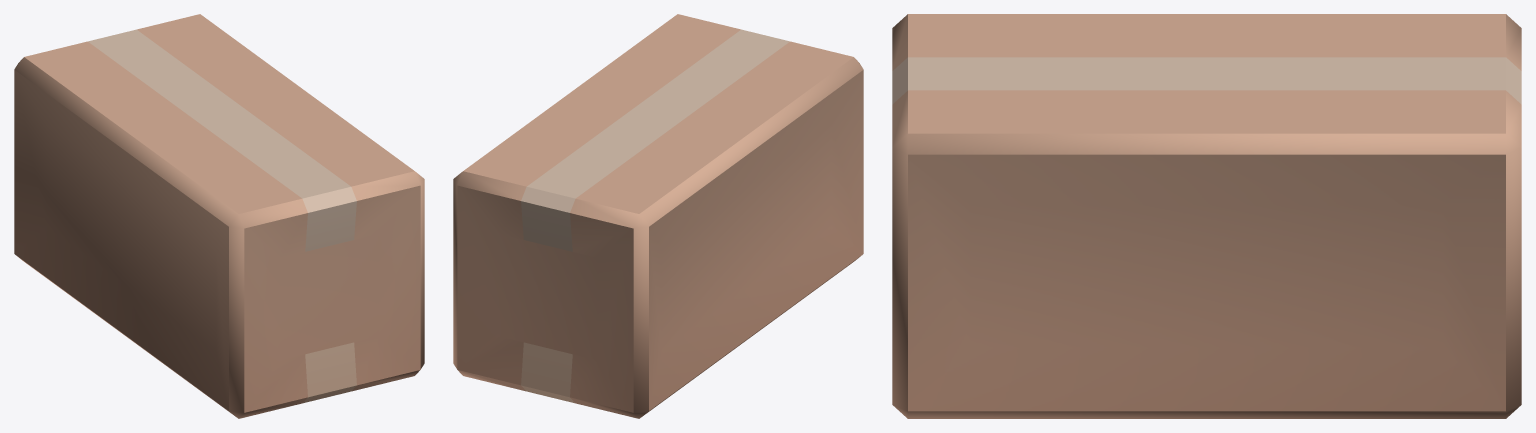
The model's file is box-large.glb.
3 views of the same model, side by side, from view 1: azimuth 30°, elevation 25°; view 2: azimuth 150°, elevation 25°; view 3: azimuth 270°, elevation 25° (orthographic). The views are drawn at different scales.
Visible parts, largest first — view 1: box-large; view 2: box-large; view 3: box-large.
Boxes of the visible parts, left/top/right/bottom form: box-large: left=14, top=14, right=424, bottom=418; box-large: left=453, top=14, right=863, bottom=418; box-large: left=892, top=14, right=1521, bottom=418.
Bounding box in the file's own units: 0.25 × 0.25 × 0.5.
